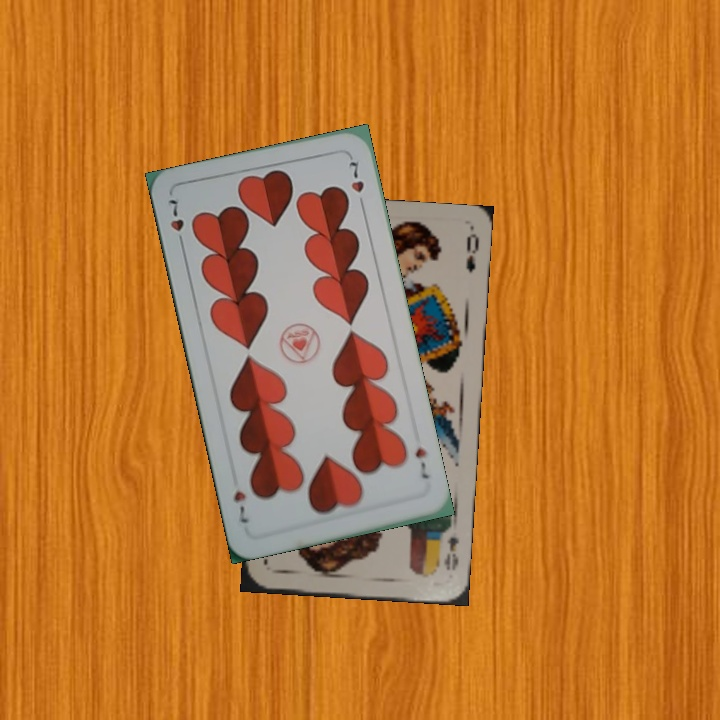EO: (440, 533, 462, 573)
H7: (164, 195, 187, 251), (411, 443, 432, 482)
